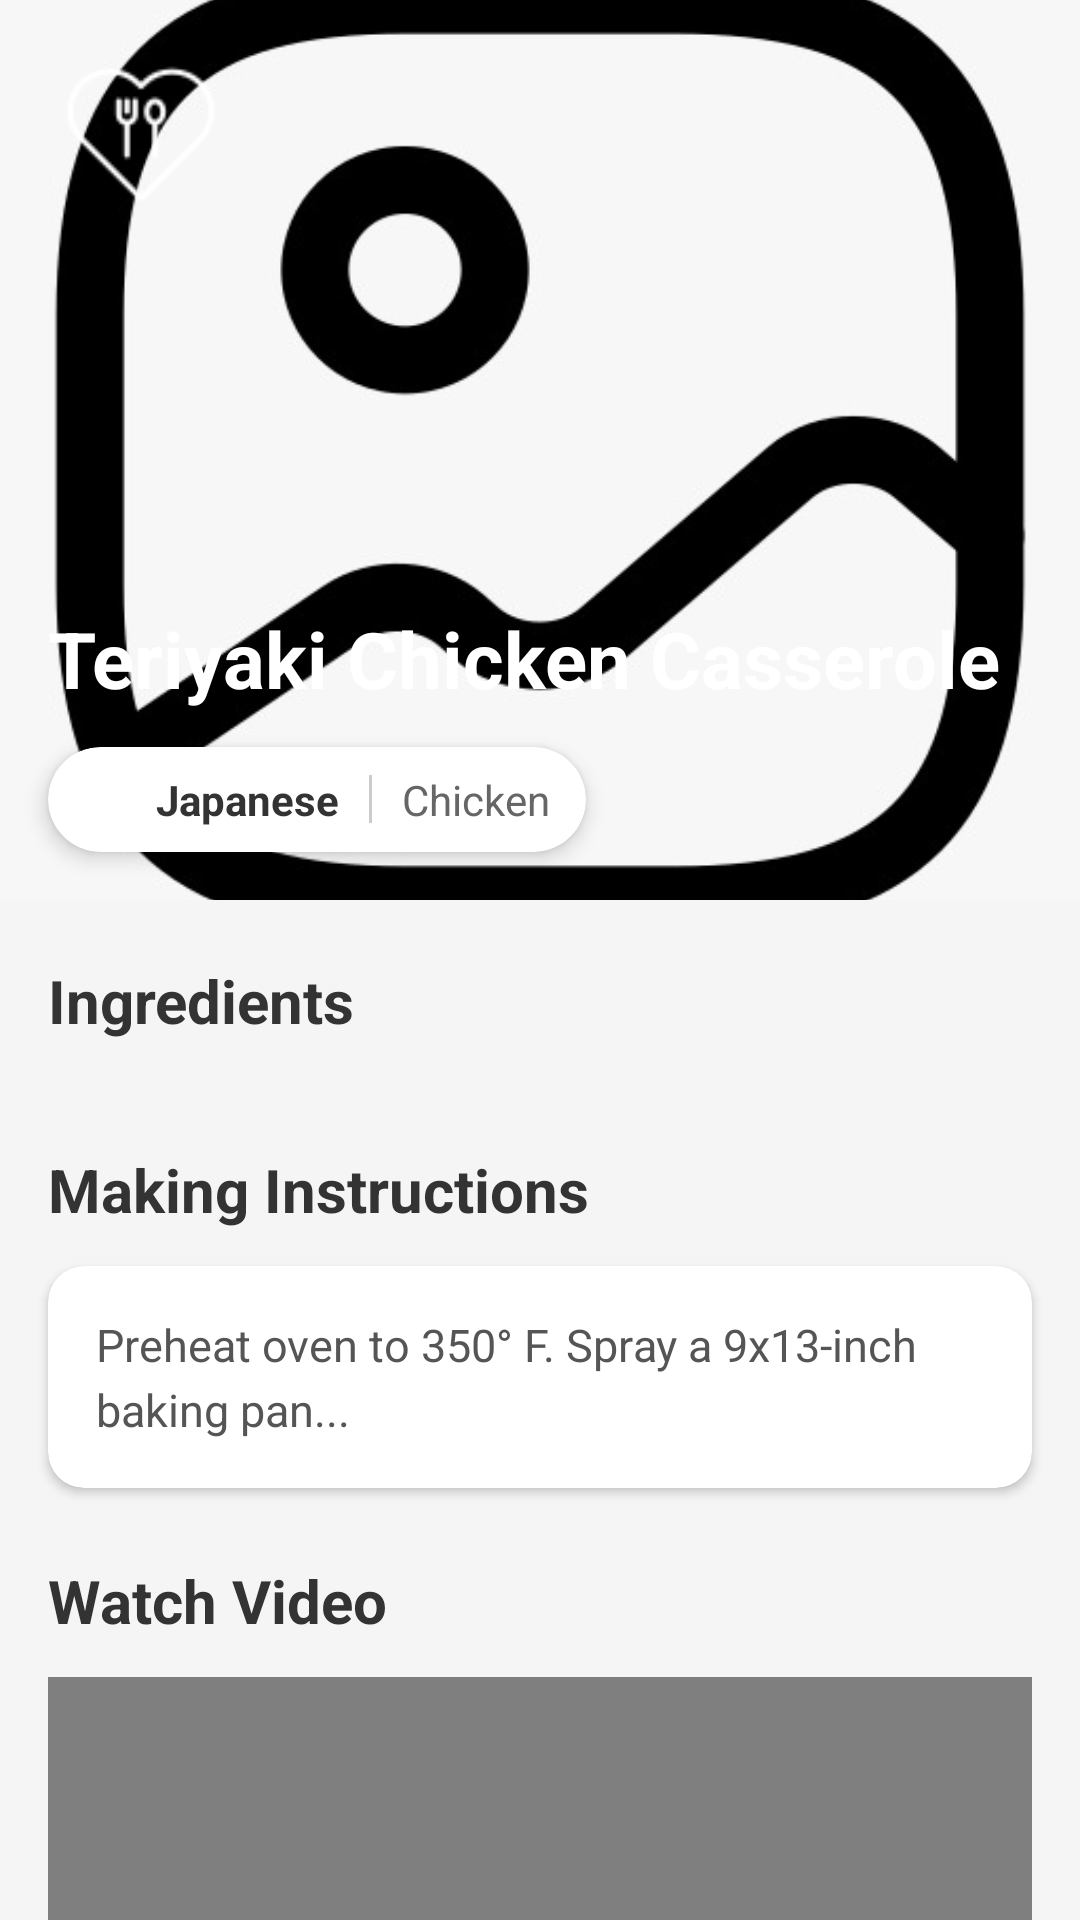

Icons on this 1080w x 1920h Android screen, each with its box as {"left": x1, "top": y1, "right": x2, "bottom": y2}:
fav: {"left": 61, "top": 48, "right": 234, "bottom": 222}
